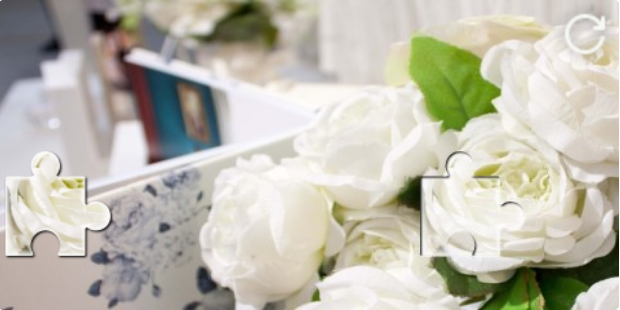target: (420, 151, 525, 258)
